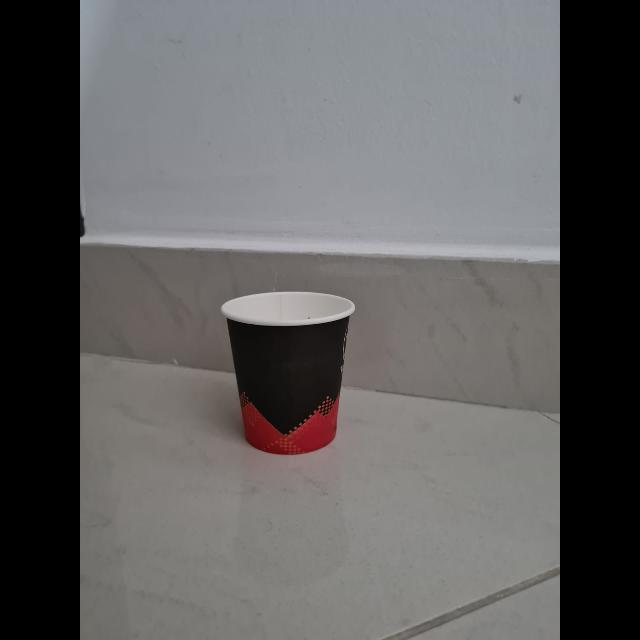trash: (219, 289, 357, 456)
